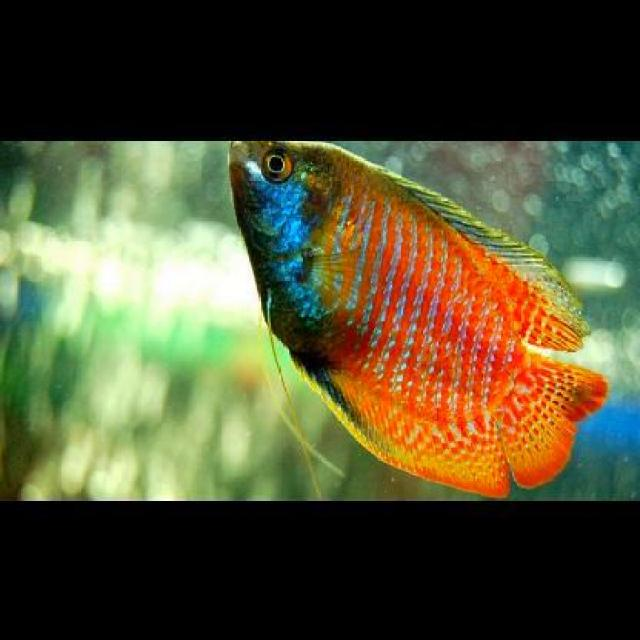Gourami: (224, 140, 610, 488)
